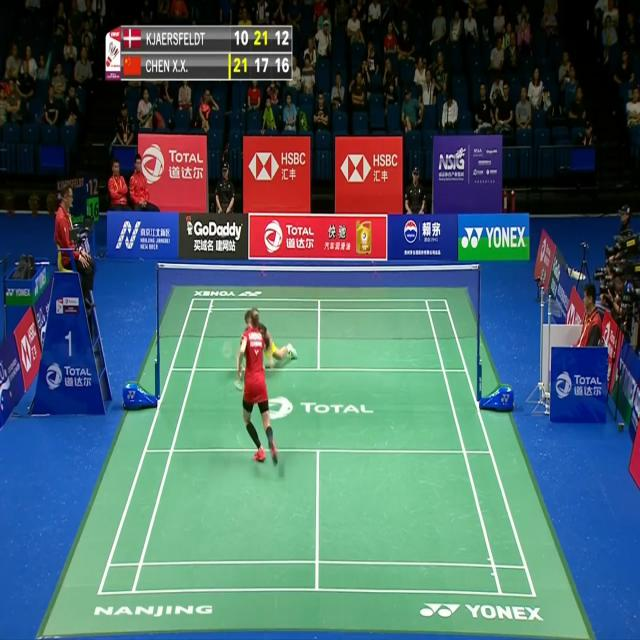Player1: (240, 306, 283, 469)
Player2: (238, 311, 300, 363)
